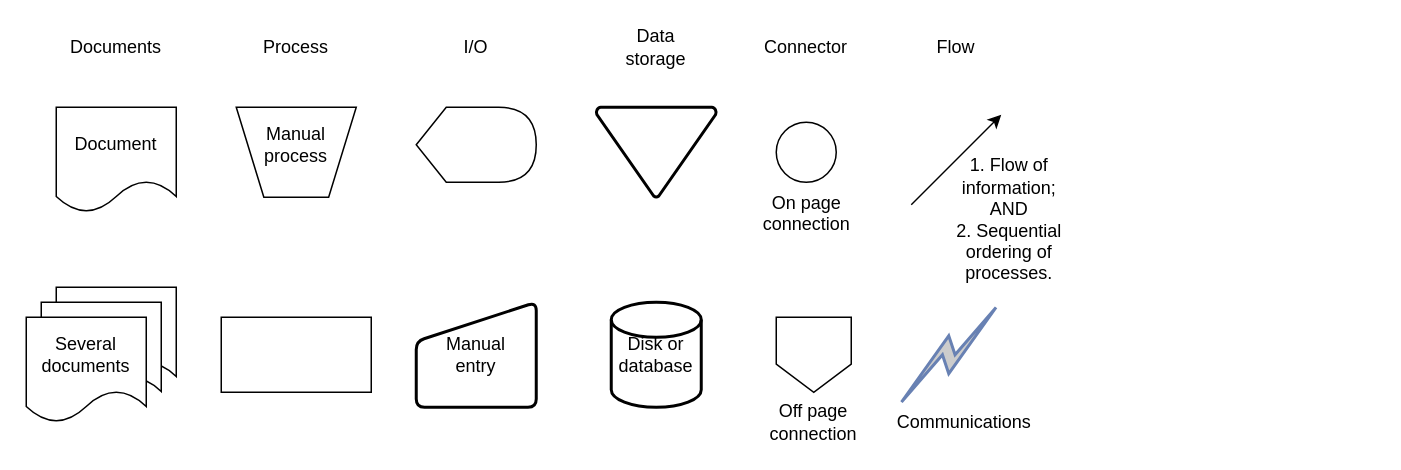
Image size: 1401x470. Some labels were removed from this diagram. The box of each missing label's shape, as (x1, y1, x2, y2) in pixels:
Computer process: (220, 316, 371, 392)
Display: (415, 106, 536, 182)
Paper file: (594, 105, 717, 198)
